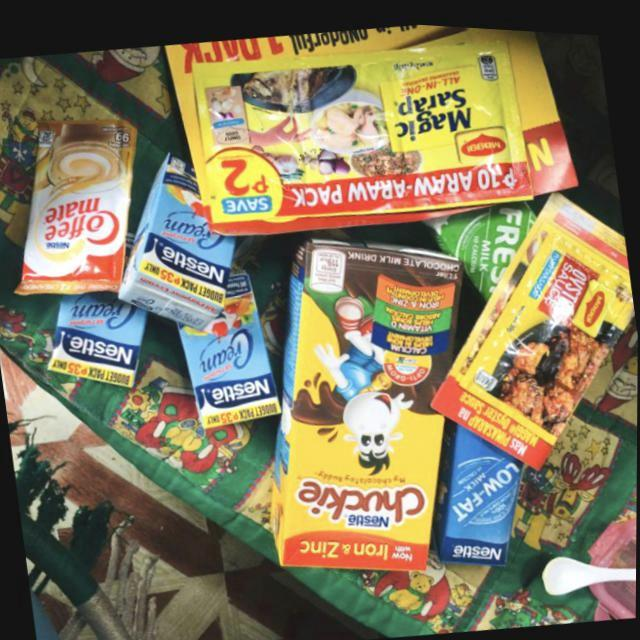plastic_sachet: (193, 37, 534, 221), (460, 229, 635, 439), (14, 117, 138, 296)
